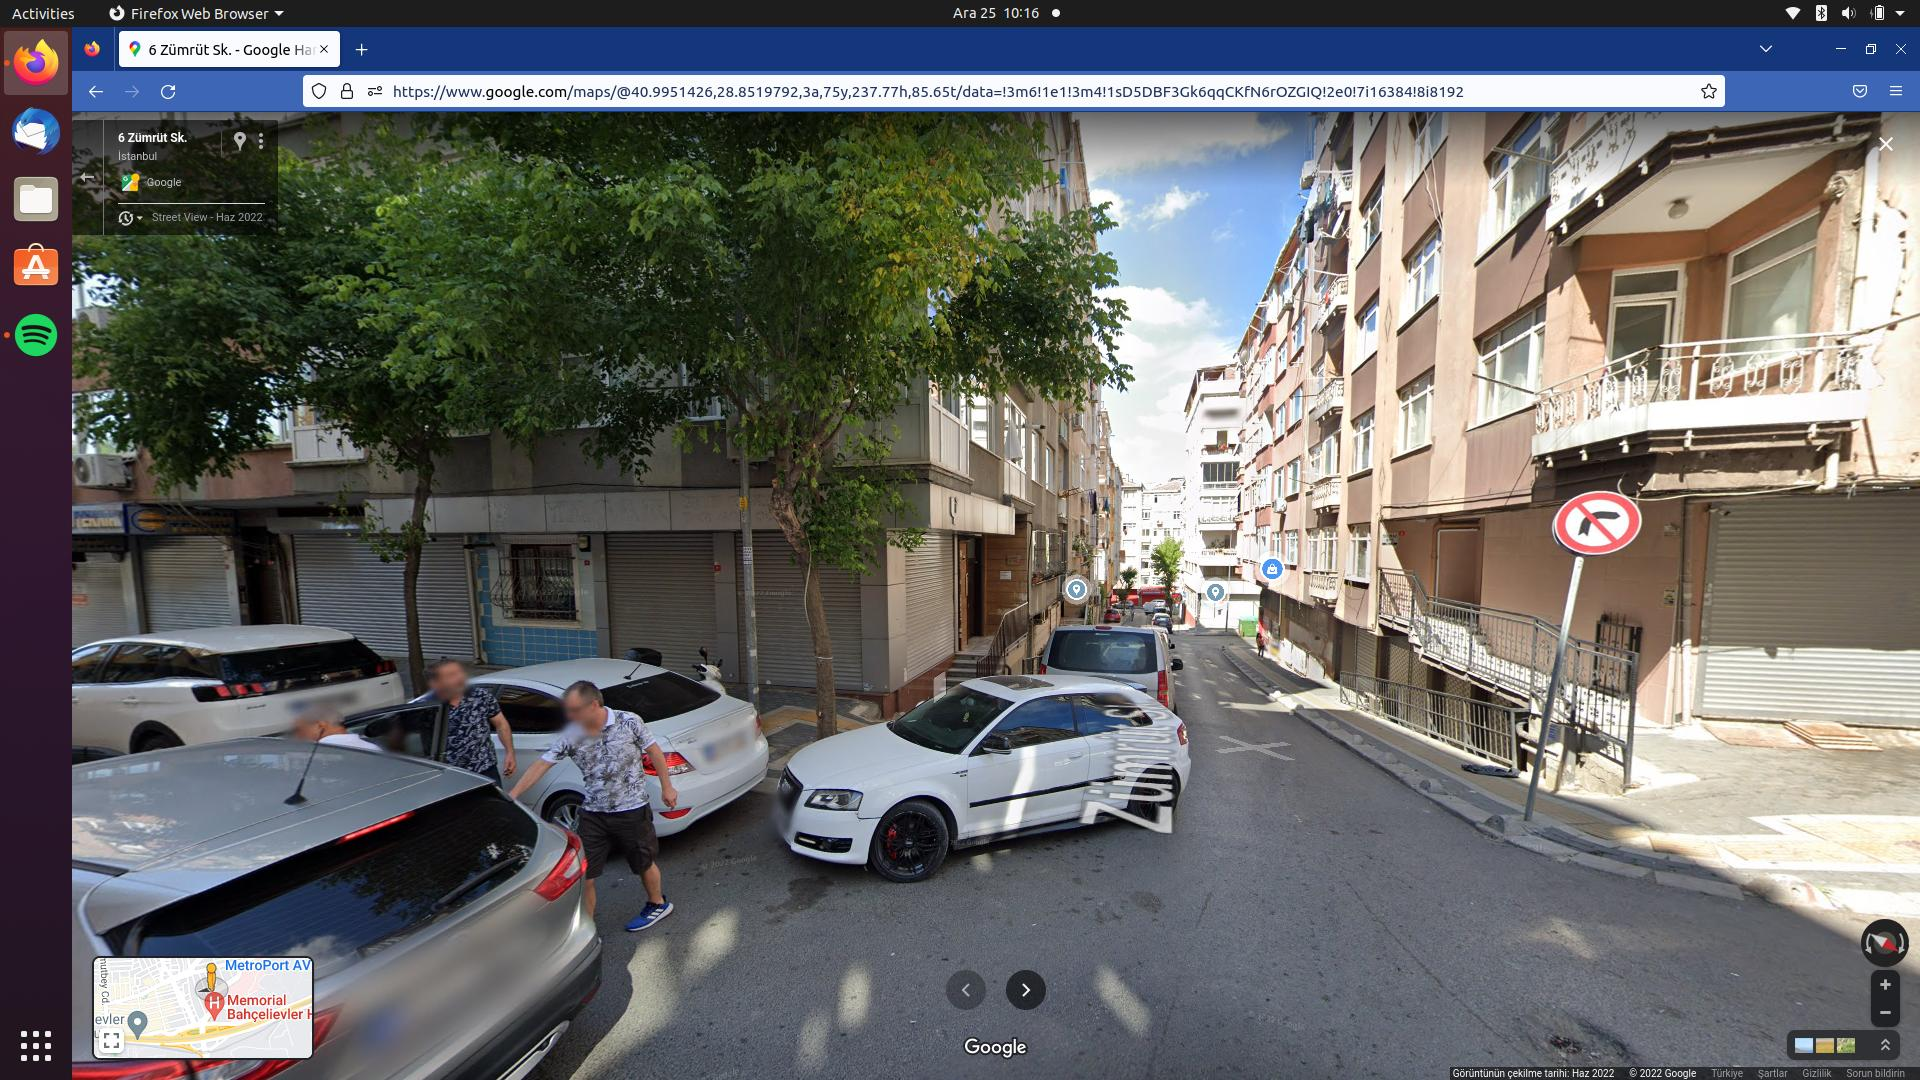rightturnsareforbidden: (1552, 487, 1646, 560)
